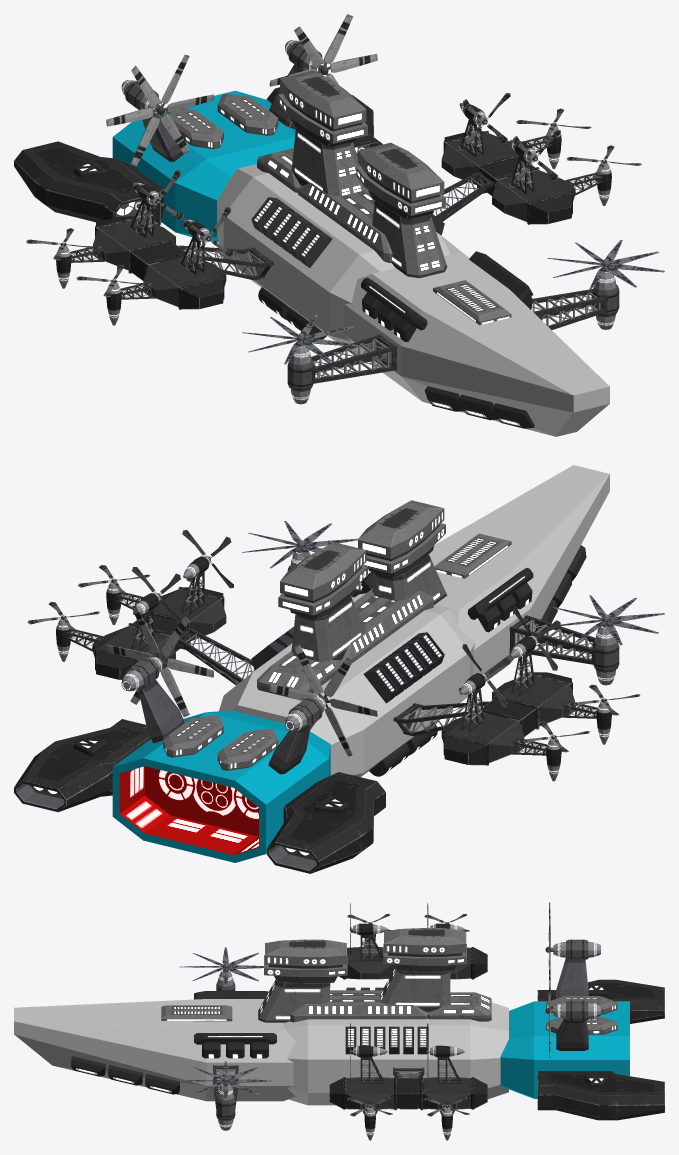
Rendered from SHIP1.fbx.
3 views of the same model, one above another, from view 1: azimuth 30°, elevation 25°; view 2: azimuth 150°, elevation 25°; view 3: azimuth 270°, elevation 25° (orthographic). The views are drawn at different scales.
Parts seen in each view (by area): view 1: bow_m_1.001, mid_m_1.001, stern_m_1.001, thruster_l_2.001, body_s_2.002, body_s_2.001, bridge_m_1.001, bridge_m_1.002, tower_m_1.001, tower_m_1.002, platform_l_1.001, propeller_m_1.001 (+23 smaller); view 2: stern_m_1.001, bow_m_1.001, mid_m_1.001, thruster_l_2.001, thruster_l_2.002, body_s_2.002, bridge_m_1.002, body_s_2.001, bridge_m_1.001, tower_m_1.002, platform_l_1.001, propeller_m_1.002 (+20 smaller); view 3: bow_m_1.001, mid_m_1.001, stern_m_1.001, thruster_l_2.002, body_s_2.001, bridge_m_1.002, bridge_m_1.001, platform_l_1.001, tower_m_1.002, thruster_l_2.001, body_s_2.002, tower_m_1.001 (+20 smaller).
Part boxes in pixels (x1=…): bow_m_1.001: x1=344, y1=252, x2=609, y2=436; mid_m_1.001: x1=217, y1=164, x2=469, y2=355; stern_m_1.001: x1=112, y1=90, x2=295, y2=242; thruster_l_2.001: x1=14, y1=141, x2=163, y2=225; body_s_2.002: x1=93, y1=216, x2=226, y2=309; body_s_2.001: x1=441, y1=131, x2=574, y2=224; bridge_m_1.001: x1=356, y1=142, x2=445, y2=219; bridge_m_1.002: x1=278, y1=70, x2=367, y2=147; tower_m_1.001: x1=372, y1=201, x2=447, y2=278; tower_m_1.002: x1=291, y1=128, x2=365, y2=196; platform_l_1.001: x1=298, y1=183, x2=392, y2=262; propeller_m_1.001: x1=106, y1=54, x2=213, y2=166; stern_m_1.001: x1=112, y1=710, x2=330, y2=862; bow_m_1.001: x1=371, y1=465, x2=609, y2=681; mid_m_1.001: x1=219, y1=593, x2=475, y2=776; thruster_l_2.001: x1=266, y1=772, x2=385, y2=873; thruster_l_2.002: x1=14, y1=719, x2=150, y2=812; body_s_2.002: x1=441, y1=671, x2=574, y2=765; bridge_m_1.002: x1=278, y1=542, x2=367, y2=619; body_s_2.001: x1=93, y1=587, x2=226, y2=679; bridge_m_1.001: x1=358, y1=500, x2=445, y2=577; tower_m_1.002: x1=291, y1=596, x2=366, y2=661; platform_l_1.001: x1=341, y1=589, x2=433, y2=663; propeller_m_1.002: x1=106, y1=605, x2=213, y2=716; bow_m_1.001: x1=14, y1=999, x2=295, y2=1101; mid_m_1.001: x1=283, y1=1002, x2=508, y2=1105; stern_m_1.001: x1=500, y1=1001, x2=629, y2=1098; thruster_l_2.002: x1=537, y1=1071, x2=664, y2=1120; body_s_2.001: x1=329, y1=1076, x2=487, y2=1110; bridge_m_1.002: x1=383, y1=928, x2=466, y2=972; bridge_m_1.001: x1=264, y1=939, x2=347, y2=983; platform_l_1.001: x1=290, y1=990, x2=427, y2=1022; tower_m_1.002: x1=380, y1=968, x2=450, y2=1012; thruster_l_2.001: x1=537, y1=979, x2=664, y2=1023; body_s_2.002: x1=338, y1=947, x2=487, y2=979; tower_m_1.001: x1=258, y1=979, x2=330, y2=1022.
Size of the model in its own units: 99.54 by 36.09 by 135.
